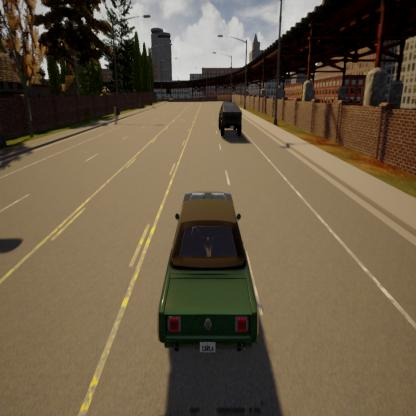Cars: (168, 189, 266, 376), (208, 96, 247, 144)
